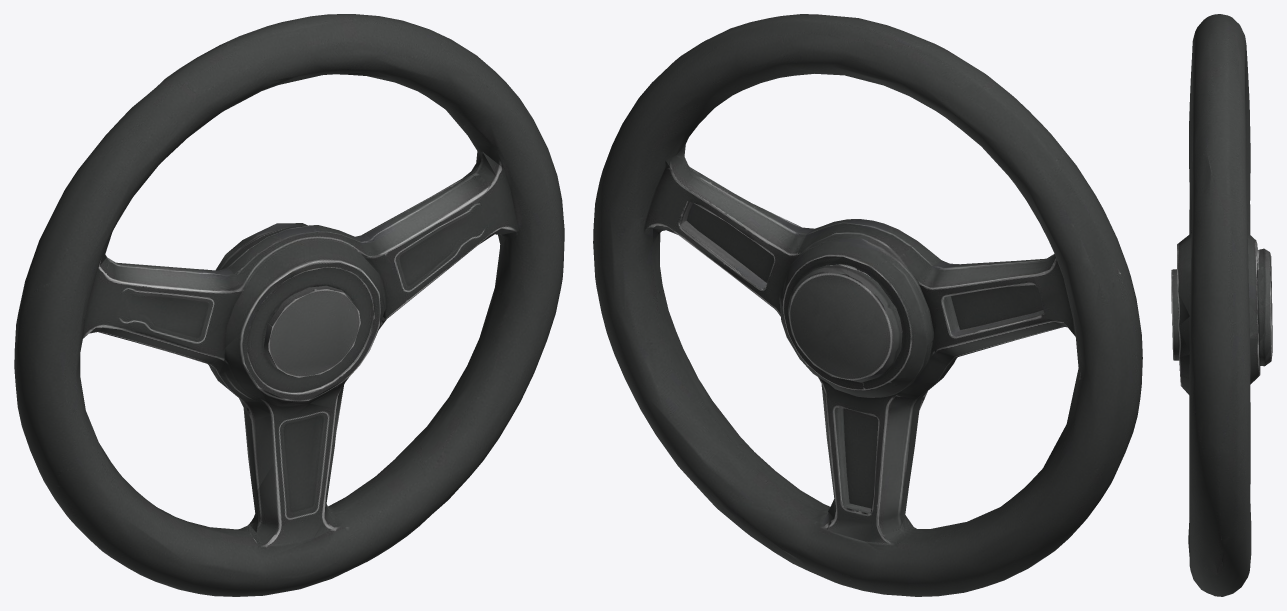
The model's file is shared_flight_deck_ordnance_tractor__steering_wheel.glb.
3 views of the same model, side by side, from view 1: azimuth 30°, elevation 25°; view 2: azimuth 150°, elevation 25°; view 3: azimuth 270°, elevation 25° (orthographic). The views are drawn at different scales.
Visible parts, largest first — view 1: mesh_node; view 2: mesh_node; view 3: mesh_node.
Boxes of the visible parts, <box> form: mesh_node: <box>14,14,564,596</box>; mesh_node: <box>593,14,1142,596</box>; mesh_node: <box>1171,14,1272,596</box>.
Bounding box in the file's own units: 0.442 × 0.4405 × 0.0763.
1 material, 1 textured.
